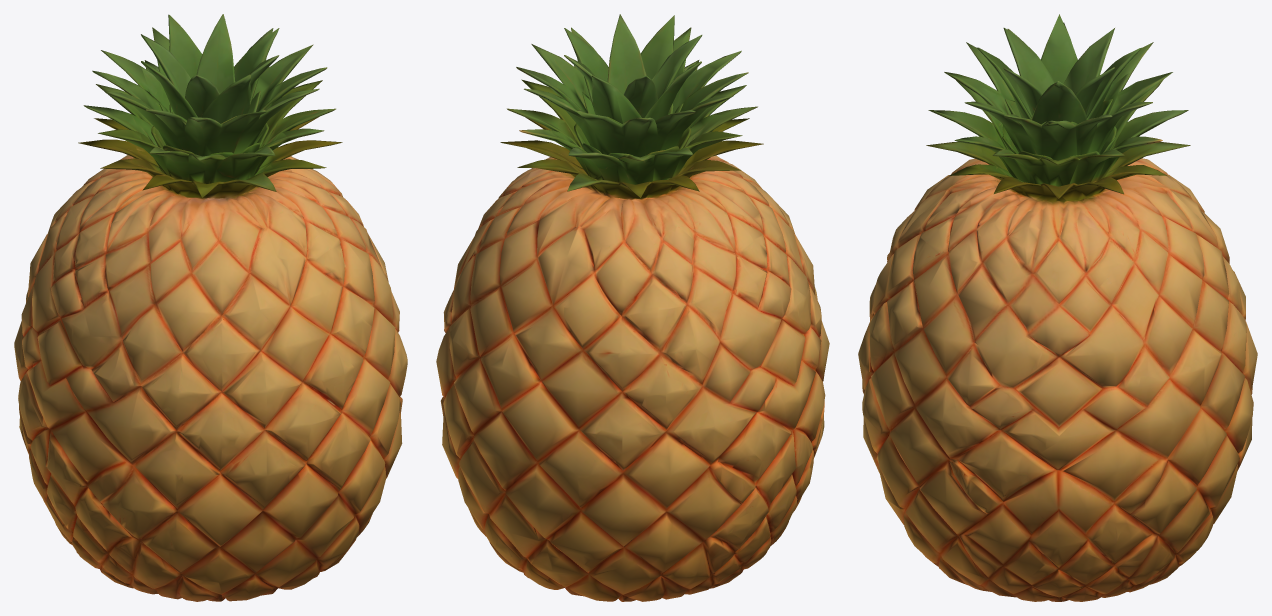
The model's file is pineapple.glb.
3 renders of one model, left to right at view 1: azimuth 30°, elevation 25°; view 2: azimuth 150°, elevation 25°; view 3: azimuth 270°, elevation 25°, orthographic.
Parts seen in each view (by area): view 1: material; view 2: material; view 3: material.
Part boxes in pixels (x1,y1,x2,y2): material: (14, 14, 407, 601); material: (436, 14, 829, 601); material: (858, 14, 1257, 601).
Bounding box in the file's own units: 0.7704 × 1.12 × 0.7946.
Materials: 1 (1 with a texture image).
